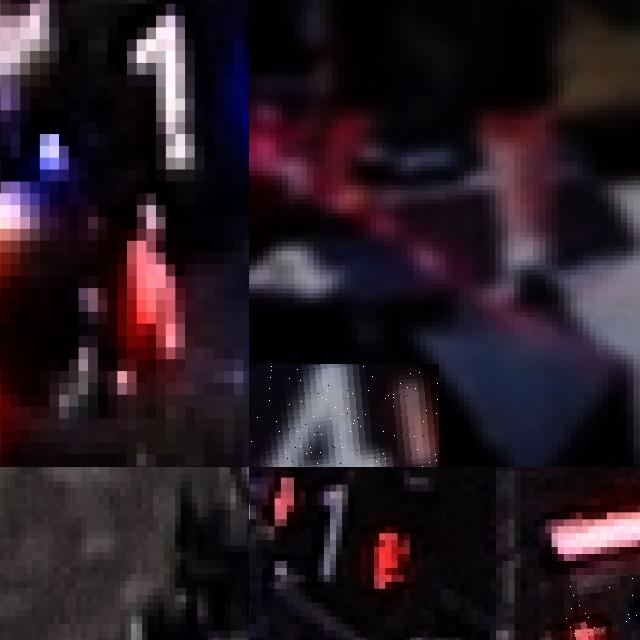R1: (268, 467, 403, 588), (564, 574, 640, 640)
R4: (249, 364, 439, 467)
